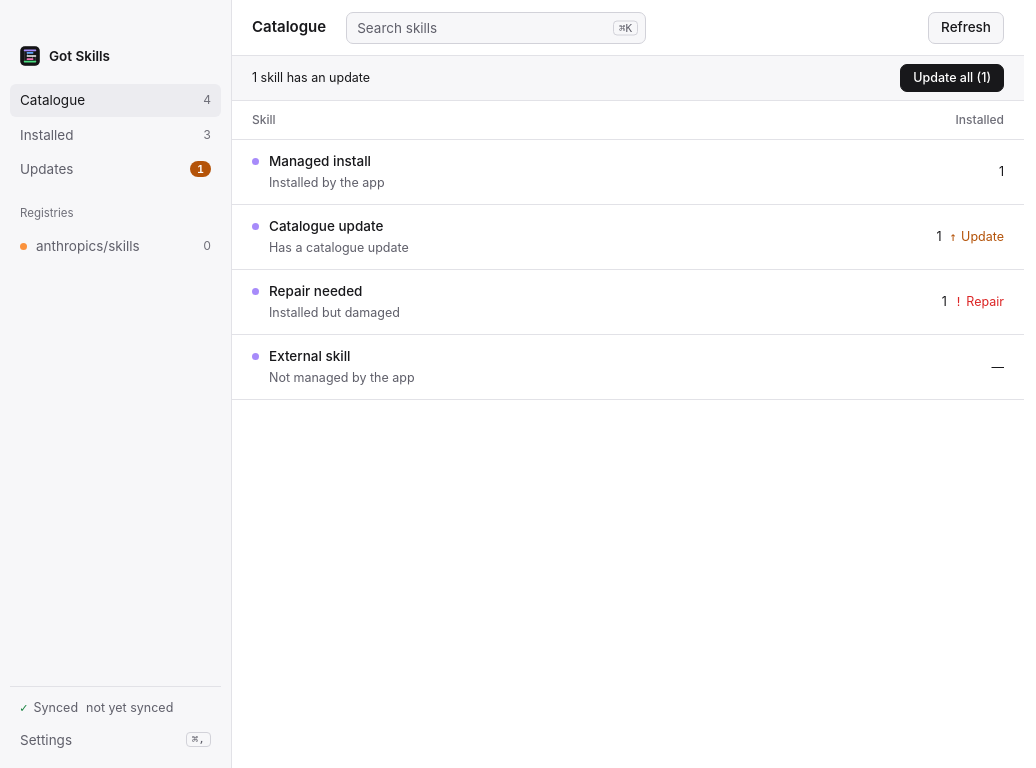
Test: App shell › excludes external skills from Installed and repair-only skills from Updates
Expected: the text "Managed install" is shown, [269,151,371,171]
Click the button "Installed 3" at (116, 135), box [10,118,221,151]
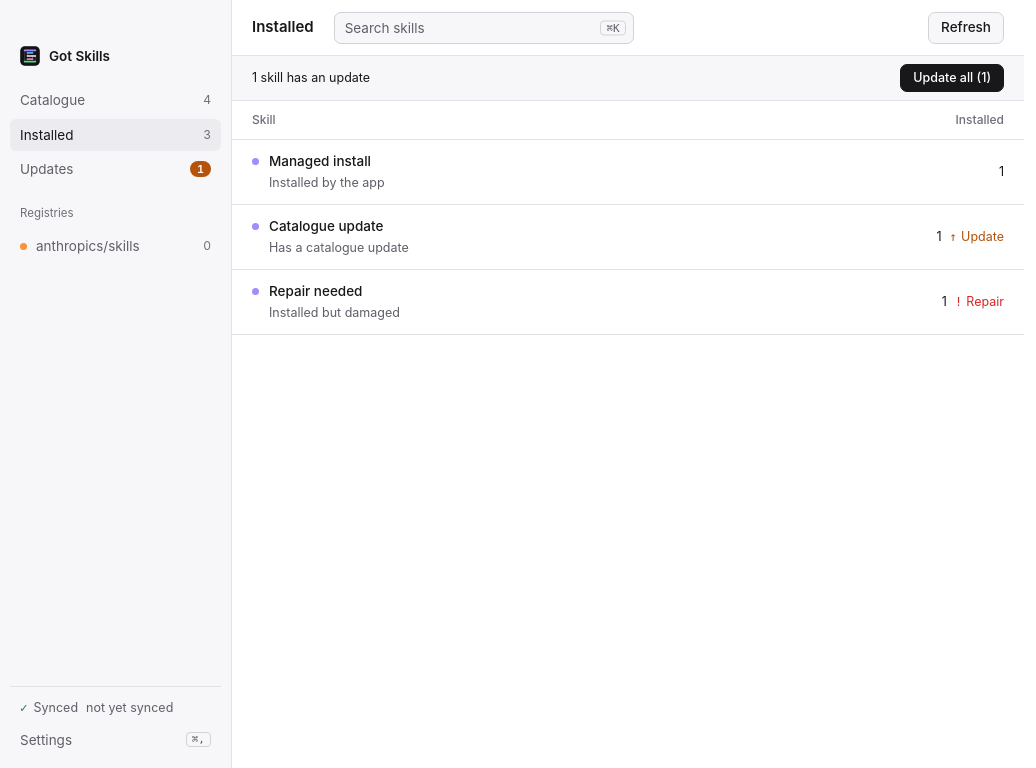
Expected: the text "Managed install" is shown, [269,151,371,171]
Result: the option "External skill" is gone
Click the button "Updates 1" at (116, 169), box [10,153,221,185]
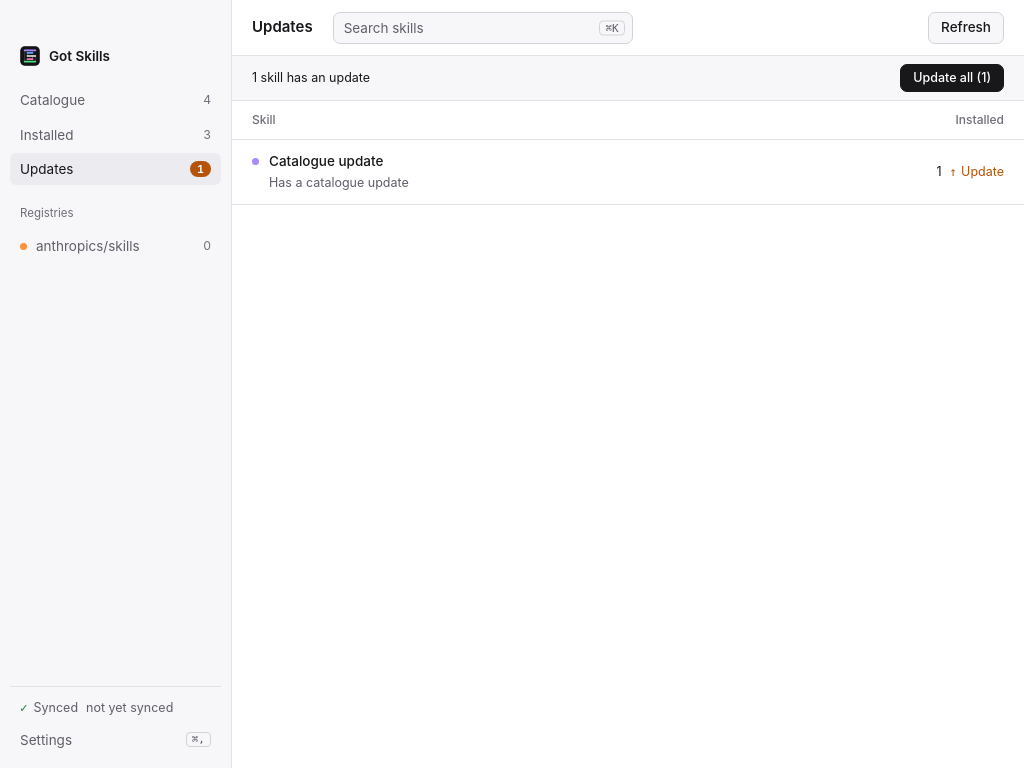
Expected: the text "Catalogue update" is shown, [269,151,383,171]
Result: the option "Managed install" is gone
Result: the option "Repair needed" is gone
